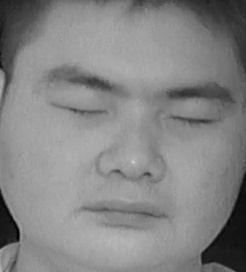blink: (51, 89, 110, 127), (170, 100, 222, 137)
mouth: (78, 190, 169, 233)
